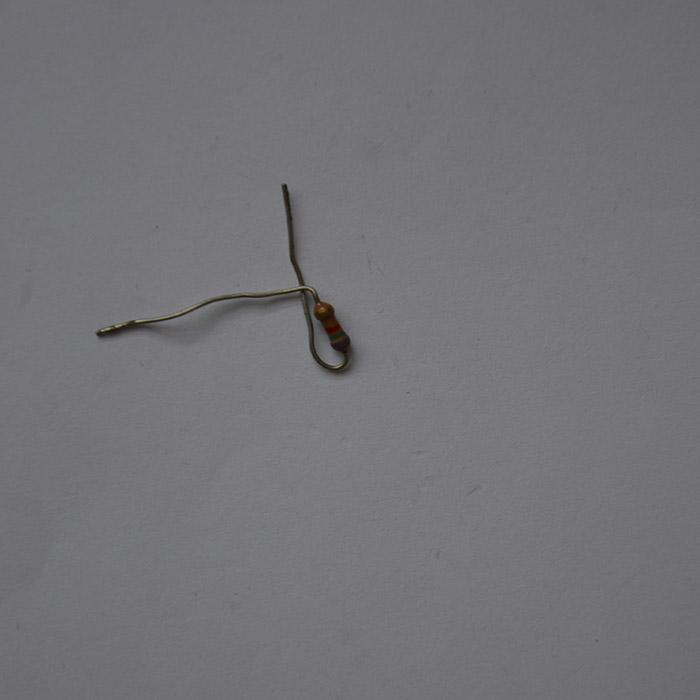resistor: (311, 299, 349, 352)
